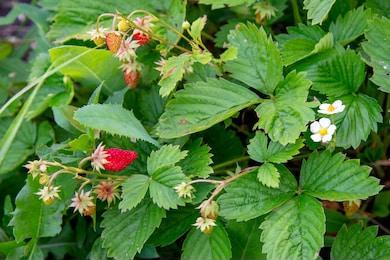Fresa: (84, 141, 145, 175)
